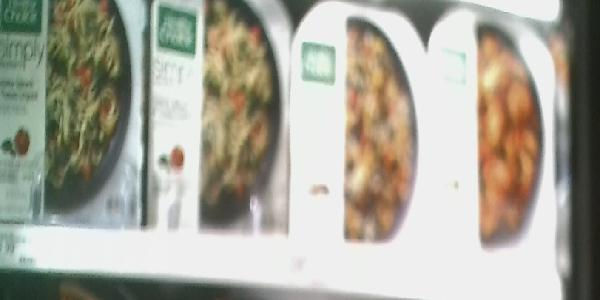pizza1: (289, 1, 432, 242), (147, 1, 290, 231), (1, 1, 143, 228), (434, 5, 555, 258)
